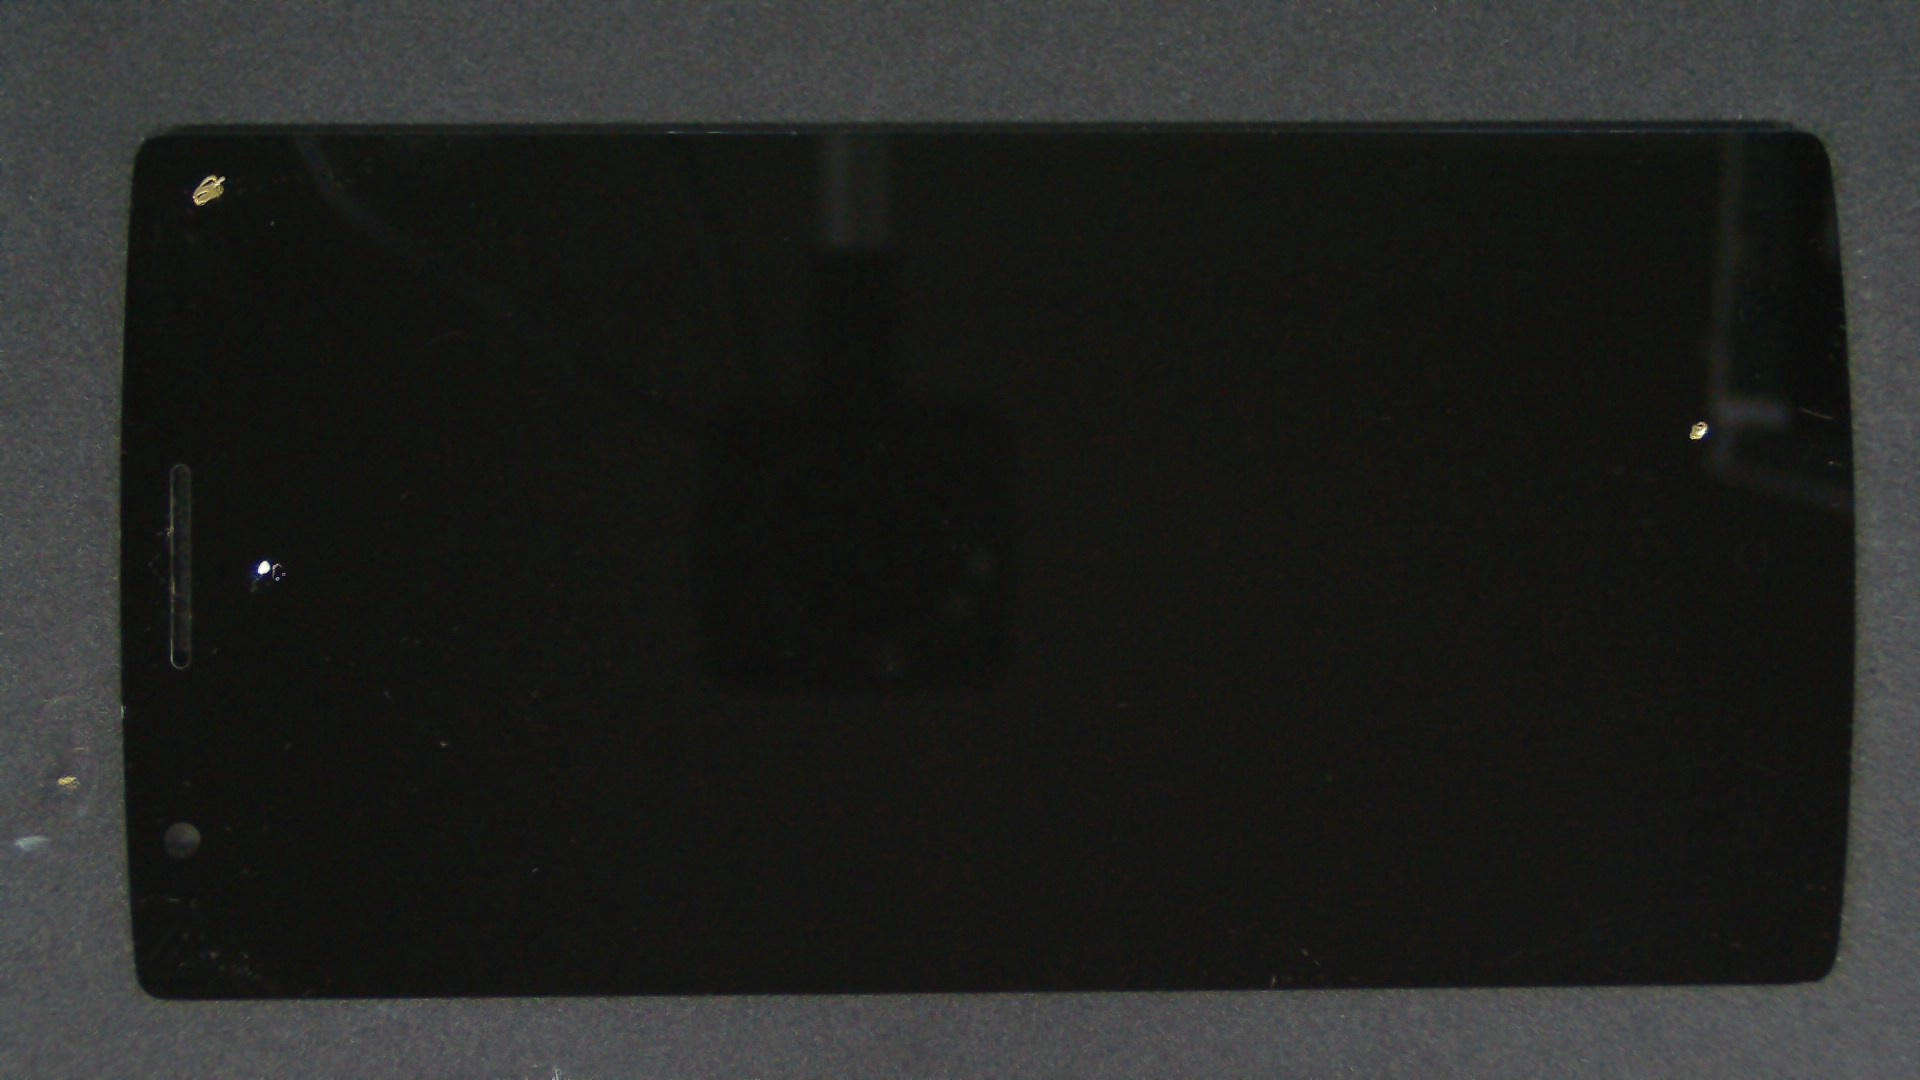oil: (851, 208, 1920, 632), (133, 277, 392, 840), (108, 86, 322, 260)
